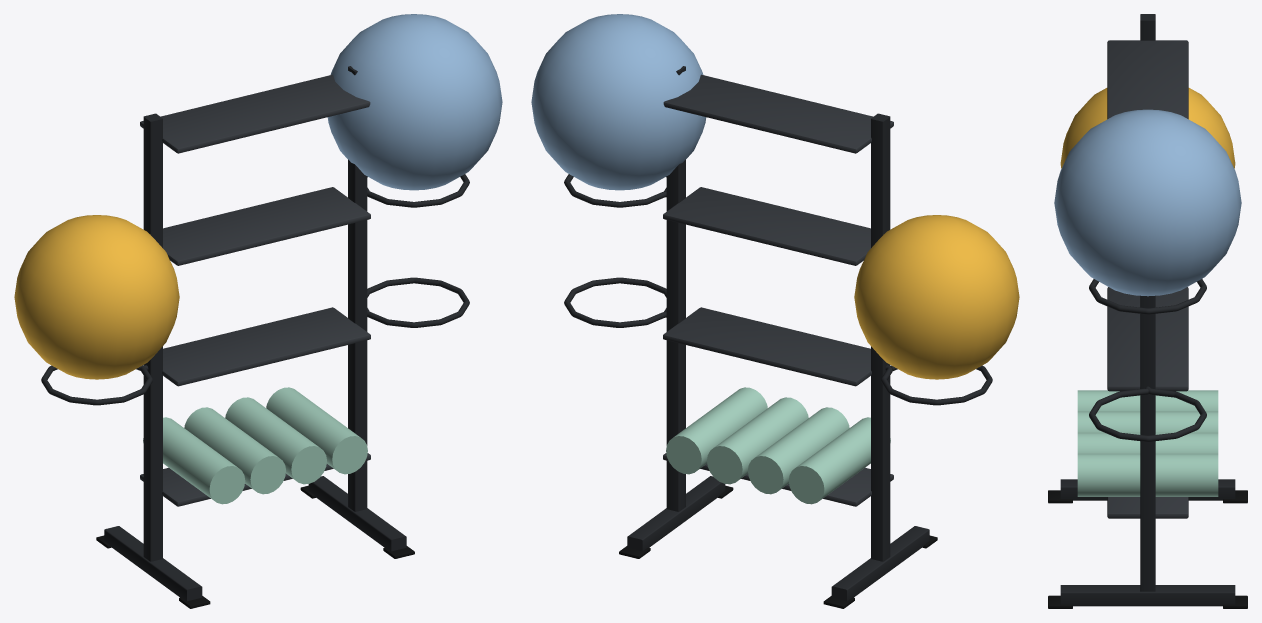
Rendered from ballrack.glb.
3 renders of one model, left to right at view 1: azimuth 30°, elevation 25°; view 2: azimuth 150°, elevation 25°; view 3: azimuth 270°, elevation 25°, orthographic. The views are drawn at different scales.
Visible parts, largest first — view 1: ballrack; view 2: ballrack; view 3: ballrack.
Boxes of the visible parts, x1=… form: ballrack: x1=14, y1=14, x2=502, y2=608; ballrack: x1=531, y1=14, x2=1019, y2=608; ballrack: x1=1048, y1=14, x2=1247, y2=608.
Size of the model in its own units: 1.82 by 1.82 by 0.64.
